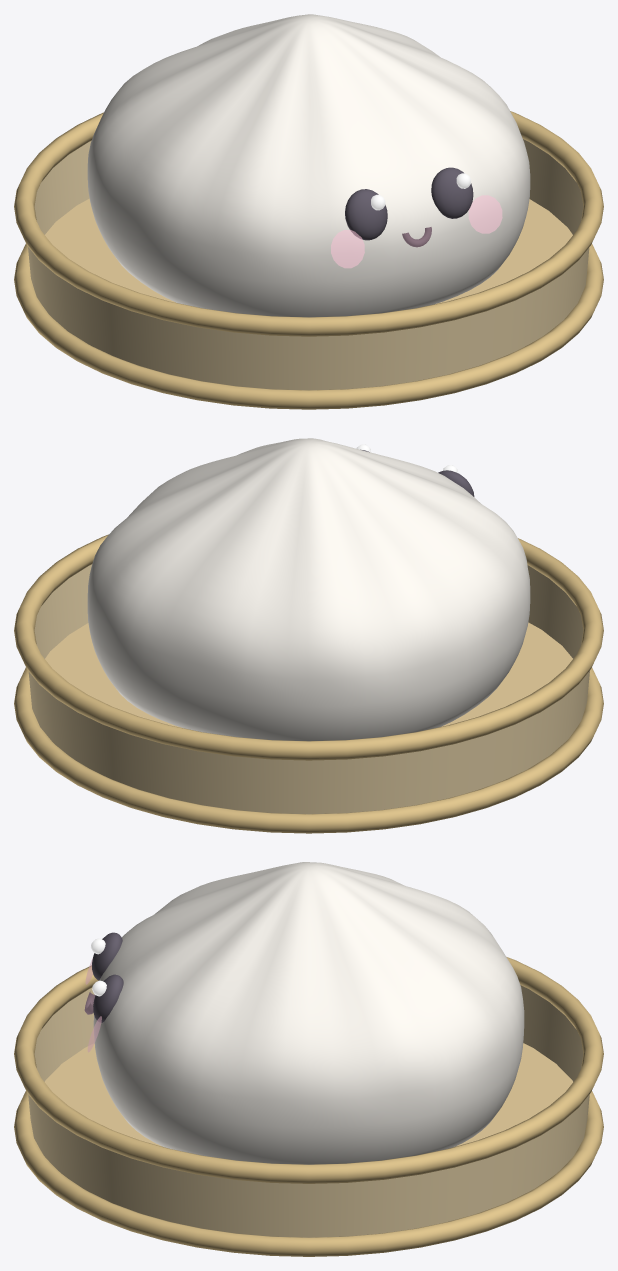
File: squishy_dumpling.glb
3 renders of one model, top to bottom at view 1: azimuth 30°, elevation 25°; view 2: azimuth 150°, elevation 25°; view 3: azimuth 270°, elevation 25°, orthographic.
Parts seen in each view (by area): view 1: Body, Base_0, Base_2, Base_1, Base_3, Part_4, Part_7, Part_9, Part_6; view 2: Body, Base_0, Base_2, Base_1, Base_3; view 3: Body, Base_0, Base_2, Base_1, Base_3, Part_7, Part_4.
Part boxes in pixels (x1,y1,x2,y2): Body: (87, 14, 530, 317); Base_0: (28, 139, 589, 390); Base_2: (14, 111, 603, 336); Base_1: (14, 244, 603, 409); Base_3: (45, 198, 572, 304); Part_4: (345, 189, 387, 240); Part_7: (431, 167, 473, 218); Part_9: (468, 195, 502, 233); Part_6: (331, 229, 364, 268); Body: (87, 438, 530, 741); Base_0: (28, 564, 589, 814); Base_2: (14, 534, 603, 760); Base_1: (14, 667, 603, 833); Base_3: (45, 622, 572, 727); Body: (93, 862, 524, 1164); Base_0: (28, 985, 589, 1237); Base_2: (14, 957, 603, 1183); Base_1: (14, 1091, 603, 1256); Base_3: (45, 1043, 572, 1146); Part_7: (93, 974, 123, 1022); Part_4: (92, 932, 122, 980).
Bounding box in the file's own units: 3.15 × 1.59 × 3.15.
